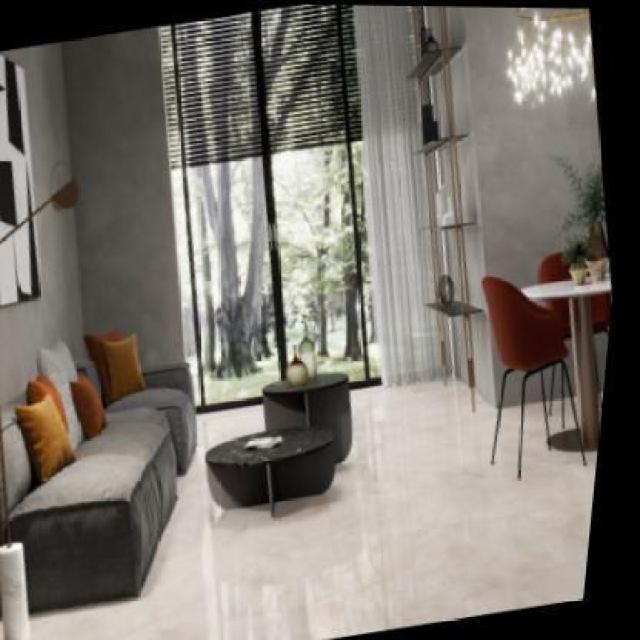tables: (517, 274, 612, 451)
